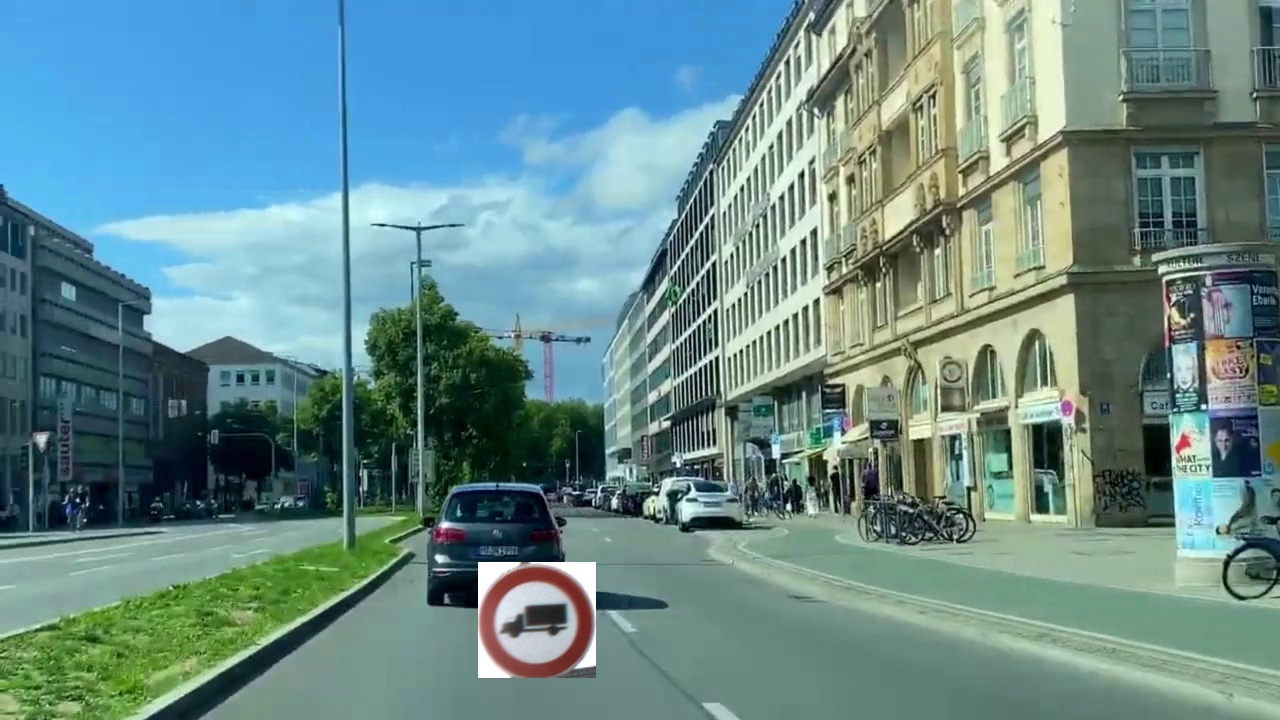Veh >3.5t prohib: (478, 562, 596, 678)
